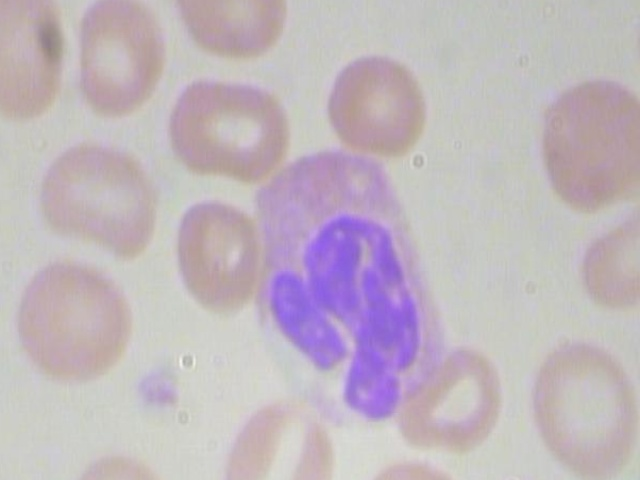RBC: (9, 243, 144, 398), (508, 74, 639, 217), (27, 135, 163, 261), (160, 63, 296, 189), (155, 192, 291, 318), (382, 334, 518, 460), (526, 332, 639, 480), (63, 0, 170, 125), (323, 36, 431, 154), (220, 391, 334, 480), (0, 0, 75, 131), (164, 0, 300, 71), (61, 439, 170, 480), (347, 458, 477, 480)
WBC: (238, 147, 478, 435)
